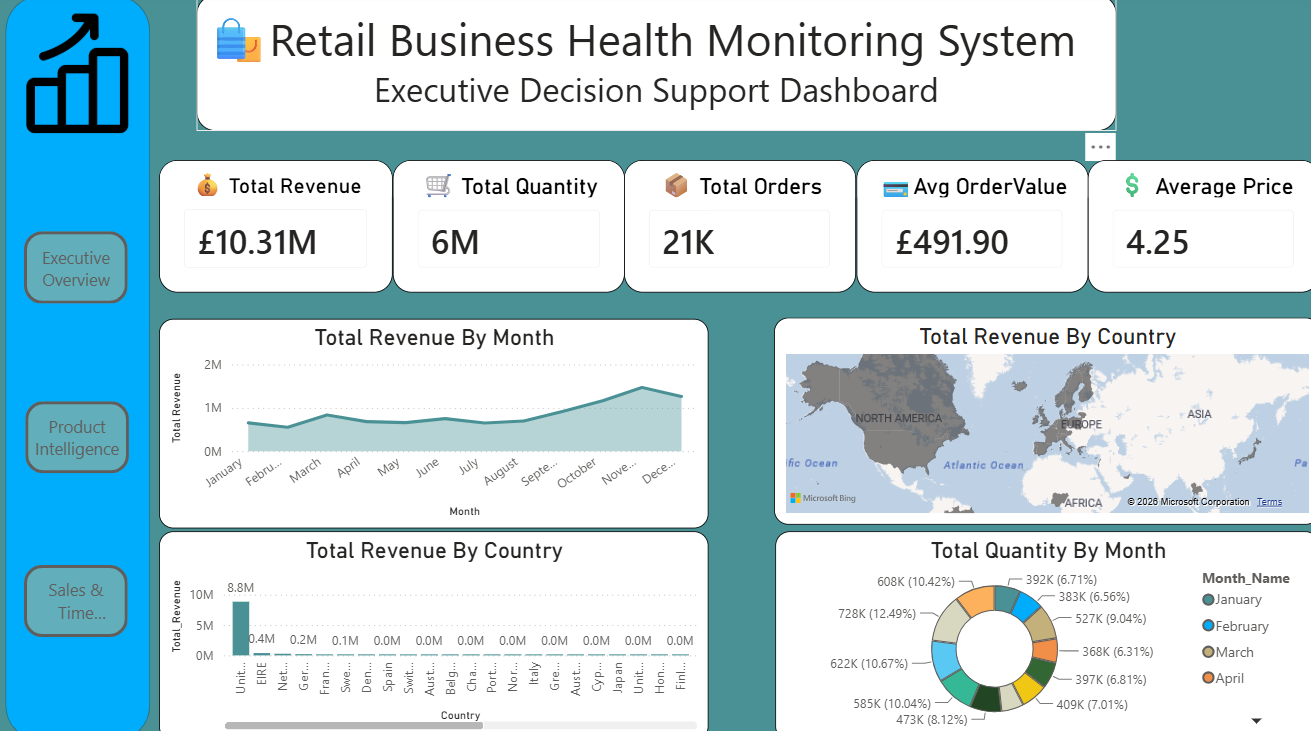

The page's visual inventory and layout, read from the dashboard file:
{"tool":"powerbi","page":{"name":"Executive Overview","canvas":[1280,720],"ordinal":0},"visuals":[{"type":"textbox","box":[195.3,0,888,131.1],"z":0},{"type":"cardVisual","title":"💰 Total Revenue","fields":{"Data":["retail_db clean retail data csv.Total_Revenue"]},"box":[159.4,159.2,225.2,128.3],"z":1000},{"type":"cardVisual","title":"🛒 Total Quantity","fields":{"Data":["Sum(retail_db clean retail data csv.Quantity)"]},"box":[384.5,159.6,224,128],"z":2000},{"type":"cardVisual","title":"📦 Total Orders","fields":{"Data":["retail_db clean retail data csv.Total_Orders"]},"box":[608.5,159.2,223.8,128.3],"z":3000},{"type":"cardVisual","title":"💳Avg OrderValue","fields":{"Data":["retail_db clean retail data csv.Avg Order Value"]},"box":[832.2,159.2,223.8,128.3],"z":4000},{"type":"cardVisual","title":"💲 Average Price","fields":{"Data":["retail_db clean retail data csv.Average price"]},"box":[1055.9,159.2,223.8,128.3],"z":5000},{"type":"lineChart","title":"Total Revenue By Month ","fields":{"Category":["retail_db clean retail data csv.Month_Name"],"Y":["retail_db clean retail data csv.Total_Revenue"]},"box":[159.6,312.2,530.2,202.4],"z":6000},{"type":"filledMap","title":"Total Revenue By Country","fields":{"Category":["retail_db clean retail data csv.Country"]},"box":[753.3,311.5,526.9,200.3],"z":7000},{"type":"clusteredColumnChart","title":"Total Revenue By Country","fields":{"Category":["retail_db clean retail data csv.Country"],"Y":["retail_db clean retail data csv.Total_Revenue"]},"box":[159.6,517.4,530.2,202.4],"z":8000},{"type":"donutChart","title":"Total Quantity By Month","fields":{"Category":["retail_db clean retail data csv.Month_Name"],"Y":["retail_db clean retail data csv.Total_Quantity"]},"box":[754,517.4,526,202.4],"z":9000},{"type":"shape","box":[11,0,140,720.4],"z":10000},{"type":"actionButton","box":[28.8,227.8,100.2,70],"z":11000},{"type":"actionButton","box":[30.6,392.3,100.2,69.6],"z":12000},{"type":"actionButton","box":[29.2,549.6,100.2,69.6],"z":13000},{"type":"image","box":[13.7,9.6,134.5,131.7],"z":15000}]}

Visuals, with their boxes on the page's 1280x720 design canvas (x1, y1, x2, y2). These are canvas units, not pixel positions in the 1311x731 screenshot, which may show the page scaled, cropped or inside an application window:
textbox: box(195, 0, 1083, 131)
"💰 Total Revenue" cardVisual: box(159, 159, 385, 288)
"🛒 Total Quantity" cardVisual: box(384, 160, 608, 288)
"📦 Total Orders" cardVisual: box(608, 159, 832, 288)
"💳Avg OrderValue" cardVisual: box(832, 159, 1056, 288)
"💲 Average Price" cardVisual: box(1056, 159, 1280, 288)
"Total Revenue By Month " lineChart: box(160, 312, 690, 515)
"Total Revenue By Country" filledMap: box(753, 312, 1280, 512)
"Total Revenue By Country" clusteredColumnChart: box(160, 517, 690, 720)
"Total Quantity By Month" donutChart: box(754, 517, 1280, 720)
shape: box(11, 0, 151, 720)
actionButton: box(29, 228, 129, 298)
actionButton: box(31, 392, 131, 462)
actionButton: box(29, 550, 129, 619)
image: box(14, 10, 148, 141)
